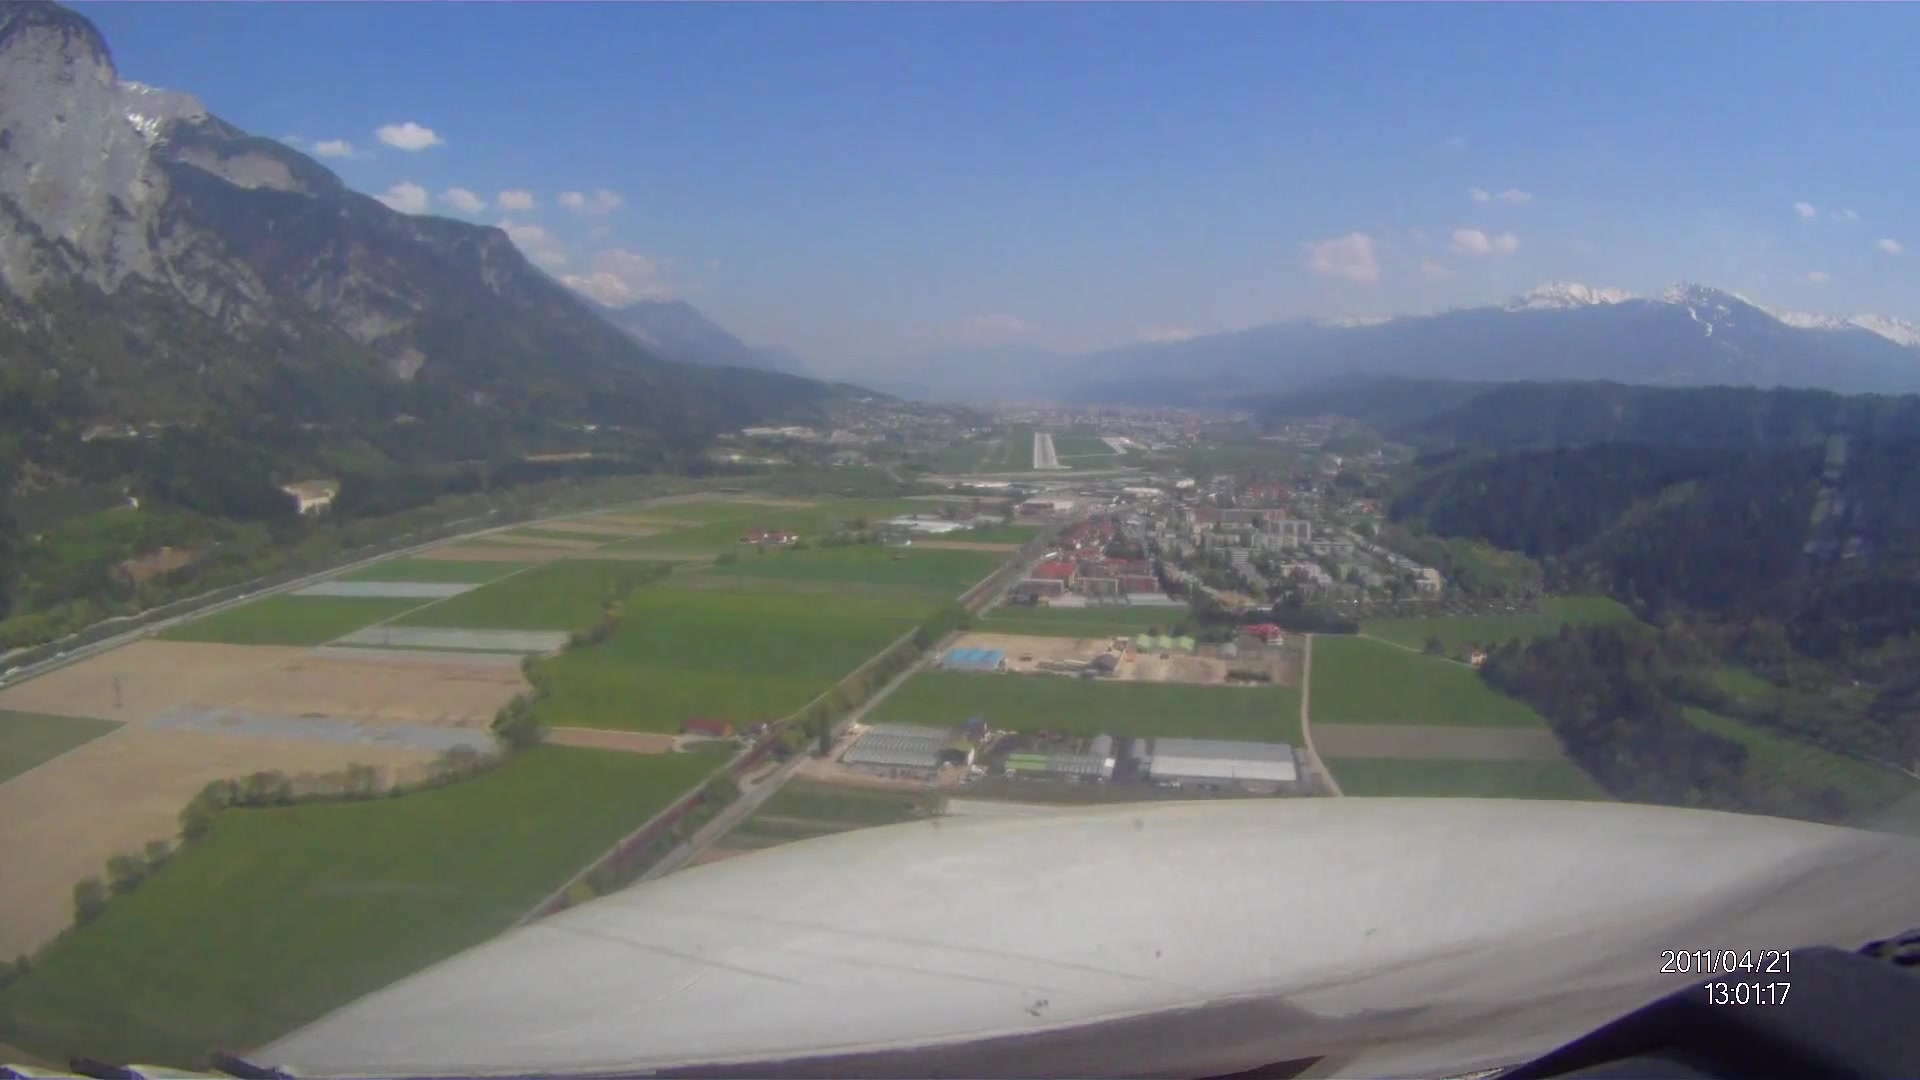runway: (1031, 433, 1059, 469)
